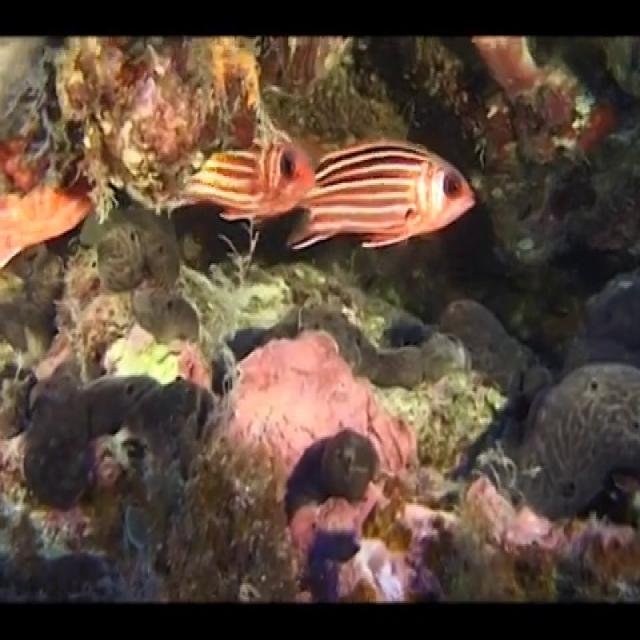Asker Baligi: (288, 135, 480, 261)
